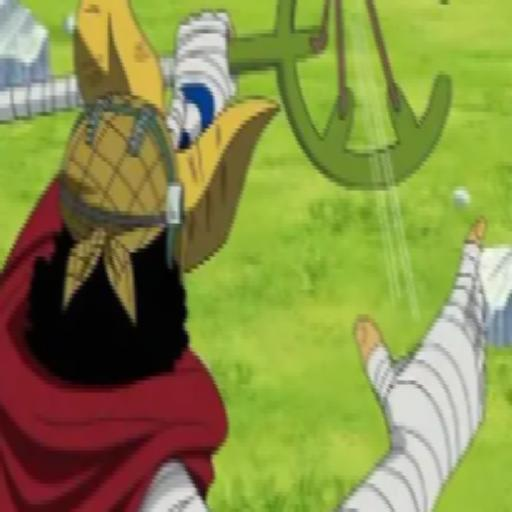Usopp: (0, 1, 506, 512)
